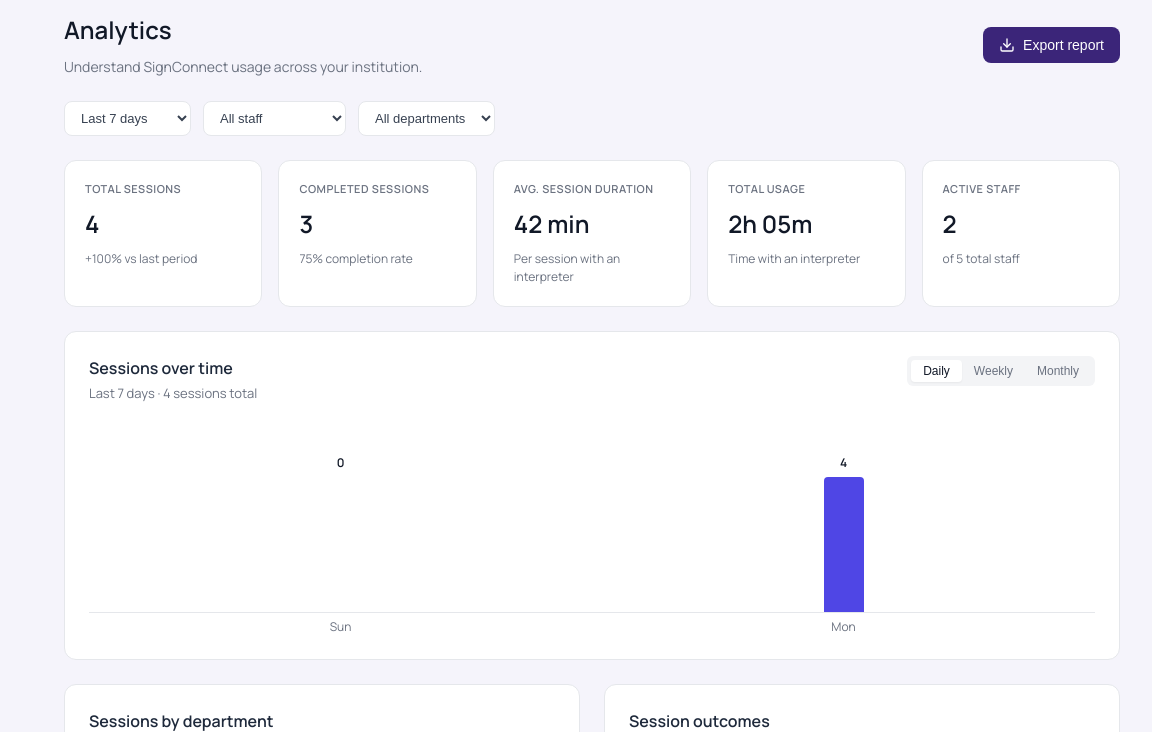
InstitutionAnalyticsPage › groups the chart by week
Click the button "Weekly" at (993, 370), box [962,360,1025,382]
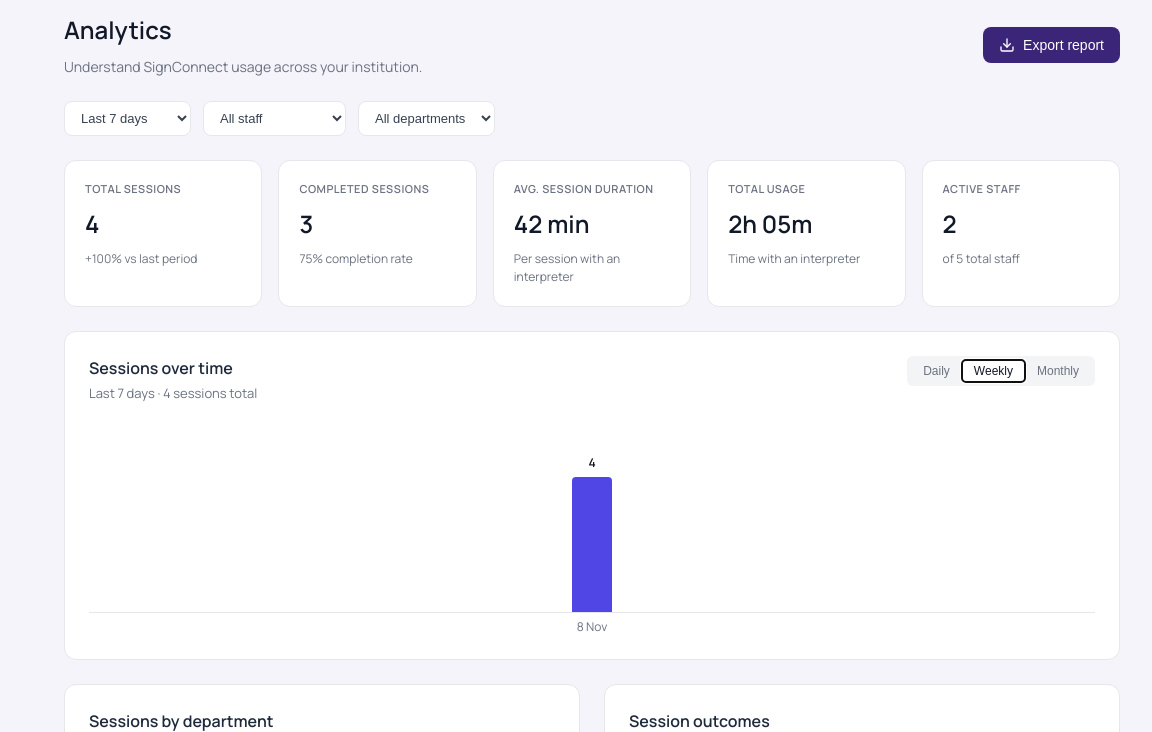
Check: the text "8 Nov" is shown, box [577,619,607,635]
